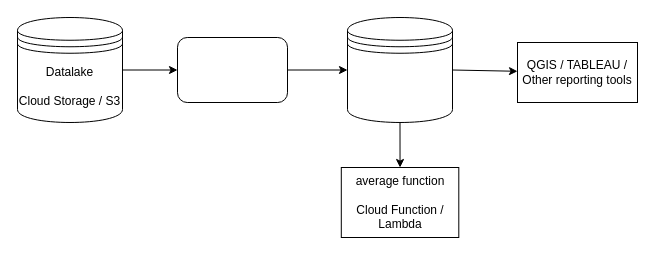
Some shapes in this 655 by 255 pixel diagram are drawn without their labels. Each missing label, with the box of its shape:
Datawarehouse: (346, 16, 452, 122)
main ETL CE / ECS: (176, 36, 288, 102)
